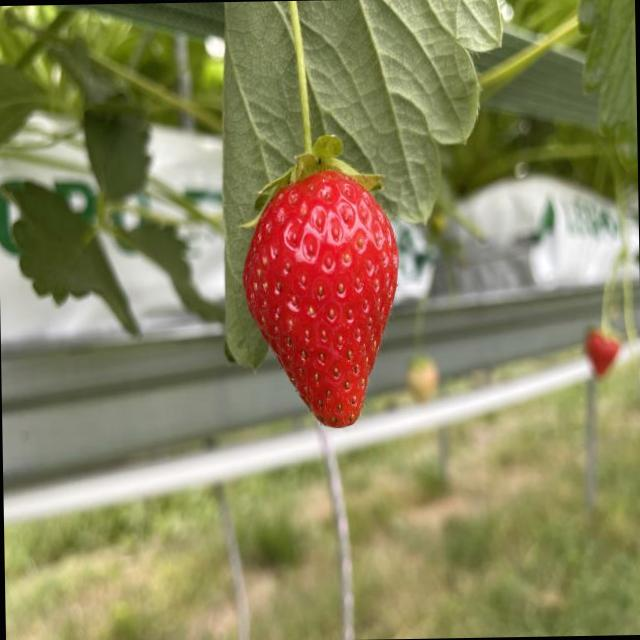stem: (255, 0, 381, 208)
strawberryR: (243, 170, 398, 427)
